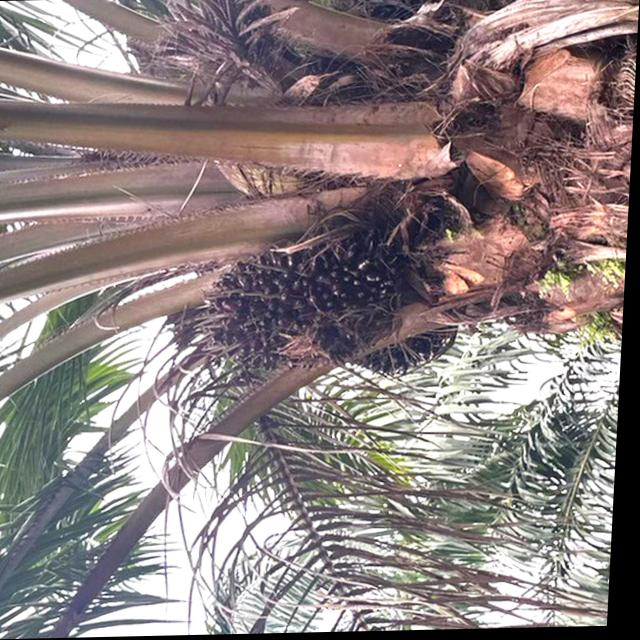ripe: (186, 227, 339, 380)
